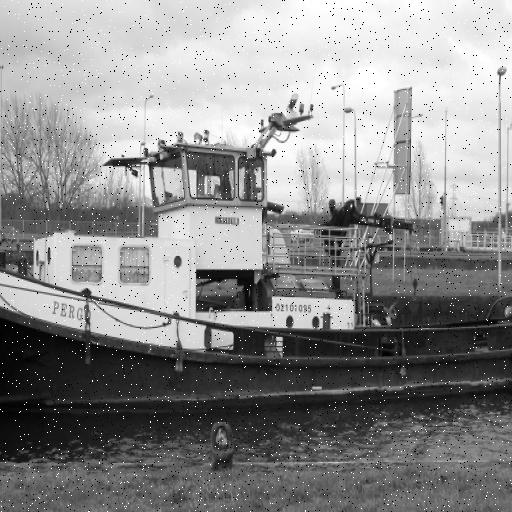tugboat: (1, 90, 512, 437)
